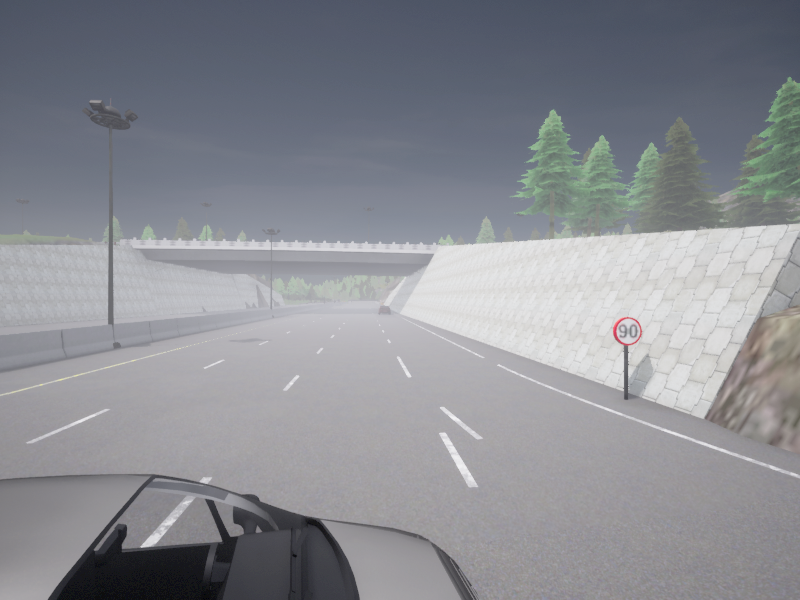vehicle: (0, 474, 480, 599), (378, 305, 390, 314)
